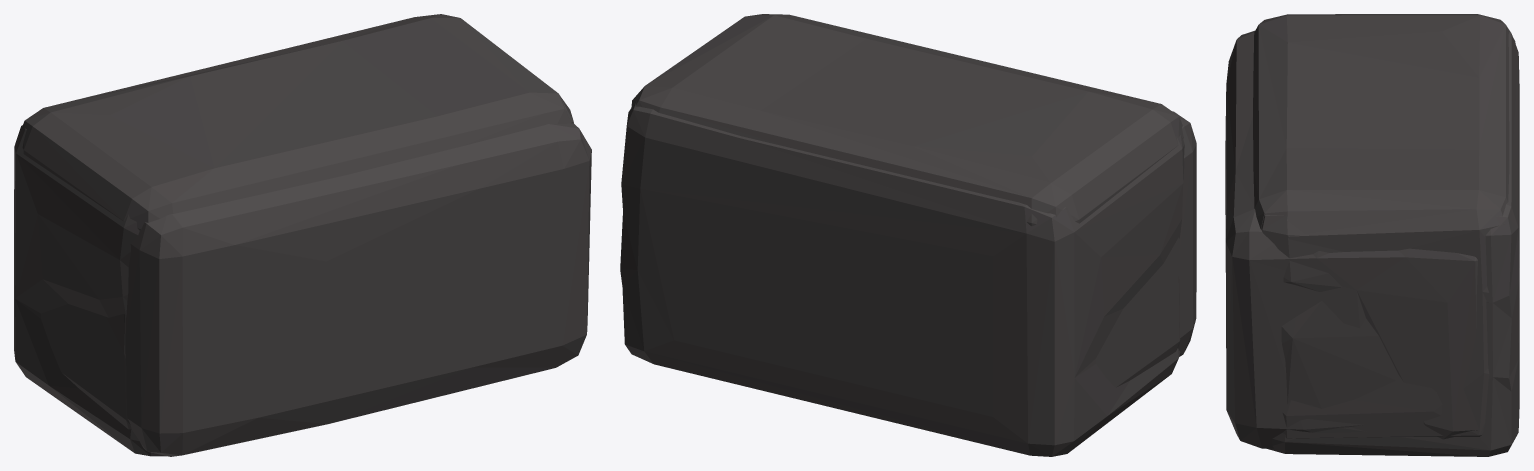
The model's file is Bricks.fbx.
The picture shows the model from 3 angles, left to right: view 1: azimuth 30°, elevation 25°; view 2: azimuth 150°, elevation 25°; view 3: azimuth 270°, elevation 25°; orthographic projection. The views are drawn at different scales.
Visible parts, largest first — view 1: Bricks, Bricks.001, Bricks.002; view 2: Bricks.002, Bricks.001, Bricks; view 3: Bricks.001, Bricks, Bricks.002.
Boxes of the visible parts, bbox=[...] form: Bricks: bbox=[125, 123, 591, 456]; Bricks.001: bbox=[21, 14, 571, 429]; Bricks.002: bbox=[14, 96, 573, 456]; Bricks.002: bbox=[620, 98, 1184, 456]; Bricks.001: bbox=[631, 14, 1183, 387]; Bricks: bbox=[1172, 111, 1196, 356]; Bricks.001: bbox=[1253, 14, 1515, 438]; Bricks: bbox=[1225, 30, 1478, 448]; Bricks.002: bbox=[1261, 28, 1519, 456].
Bounding box in the file's own units: 0.8369 × 0.477 × 0.4899.
